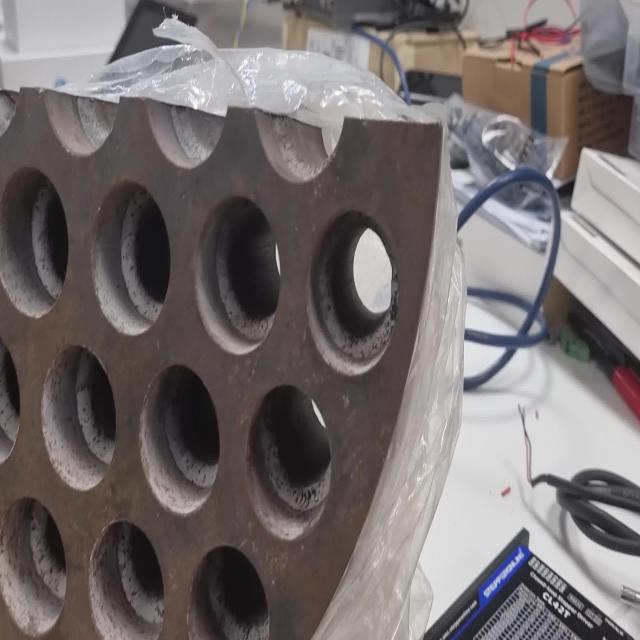Hole: (306, 206, 399, 376), (193, 195, 280, 355), (245, 383, 332, 541), (90, 179, 172, 337), (138, 362, 220, 516), (40, 343, 117, 492), (1, 166, 69, 319), (88, 516, 165, 640), (1, 494, 67, 638), (186, 542, 268, 640)
